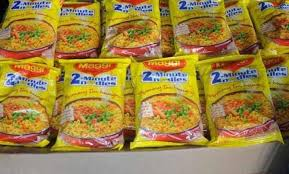maggie: (201, 57, 281, 144), (132, 60, 202, 150), (61, 61, 123, 153), (1, 63, 54, 150), (170, 1, 236, 55), (1, 1, 54, 62), (106, 1, 161, 54)
